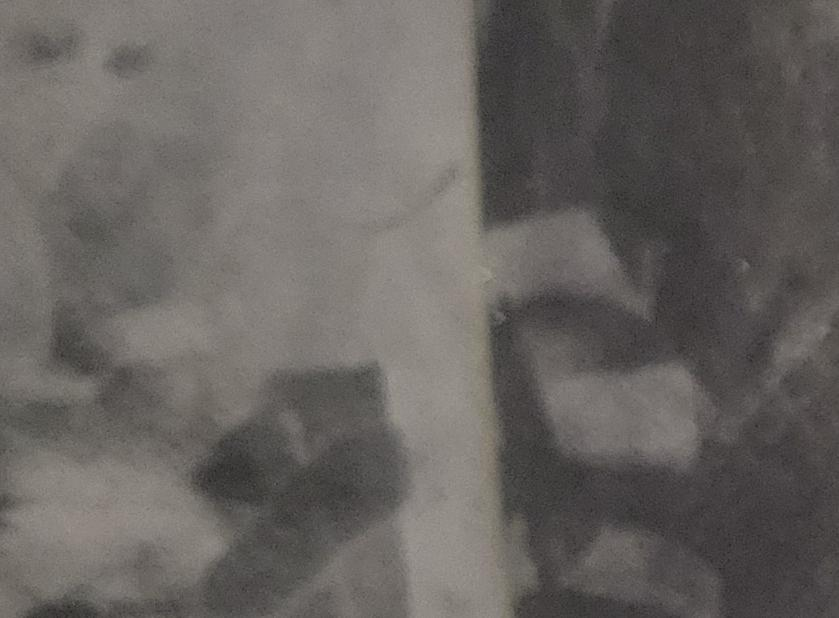Chip: (1, 372, 583, 618)
